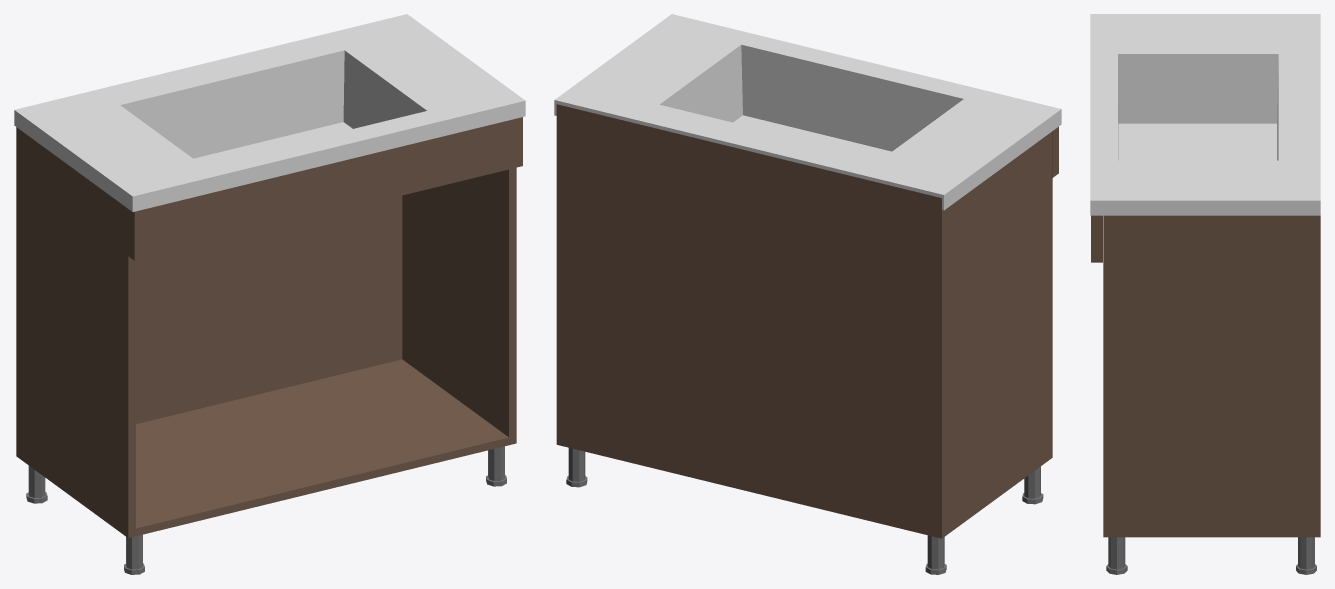
Rendered from Bathroom_C2_07.fbx.
The picture shows the model from 3 angles, left to right: view 1: azimuth 30°, elevation 25°; view 2: azimuth 150°, elevation 25°; view 3: azimuth 270°, elevation 25°; orthographic projection. The views are drawn at different scales.
Visible parts, largest first — view 1: Bathroom_C2_07; view 2: Bathroom_C2_07; view 3: Bathroom_C2_07.
Boxes of the visible parts, <box> form: Bathroom_C2_07: <box>14,14,525,574</box>; Bathroom_C2_07: <box>554,14,1061,574</box>; Bathroom_C2_07: <box>1090,14,1320,574</box>.
Bounding box in the file's own units: 91 × 85.82 × 47.51.
